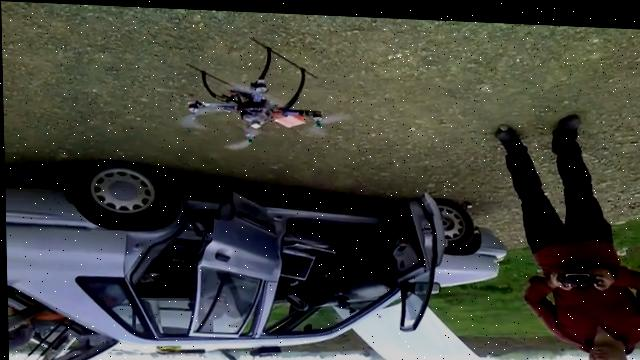drone: (164, 31, 350, 153)
